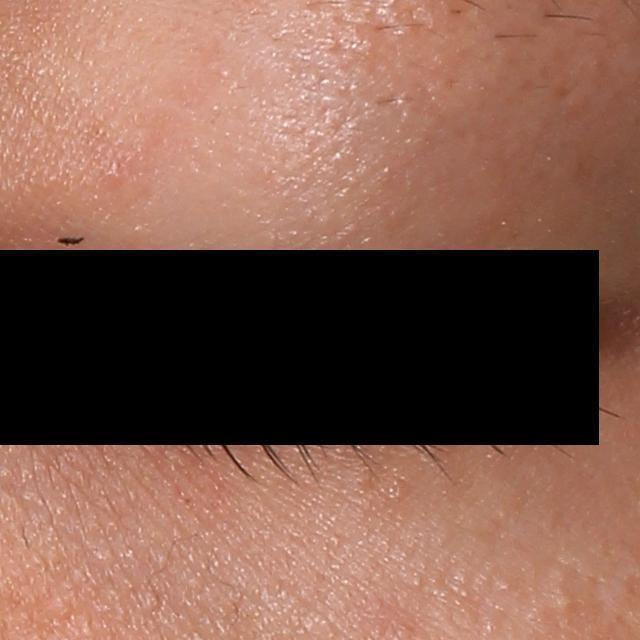comedo: (549, 591, 576, 614)
